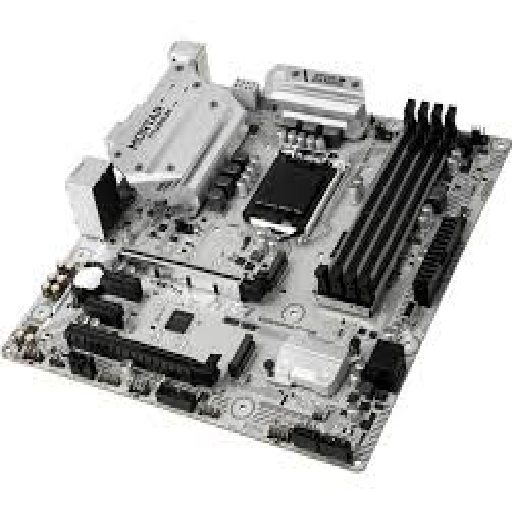CPU: (240, 136, 350, 241)
GPU: (65, 322, 221, 385), (114, 247, 268, 300)
MOTHERBOARD: (1, 38, 512, 471)
RAM: (312, 96, 457, 316)
SSD: (226, 334, 256, 378), (263, 251, 289, 291)
